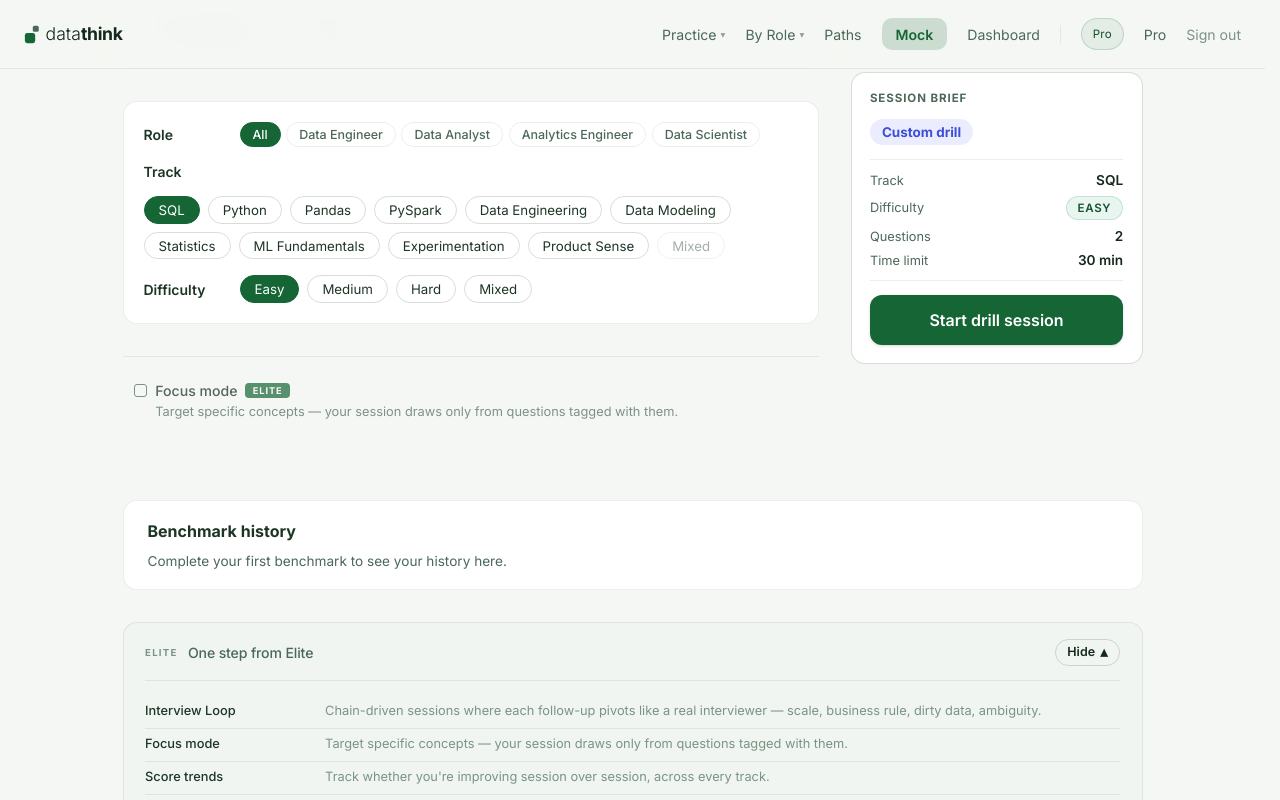
Test case: MockHub gating consistency — focus mode › Focus mode Elite gate: greyed but clickable, reveals the message + upgrade on click (no dead checkbox)
The image size is (1280, 800).
(page scrolled)
Expected: the text "Focus mode is an Elite feature" is not shown
Click the button "Focus mode": (196, 390) [122, 373, 818, 428]
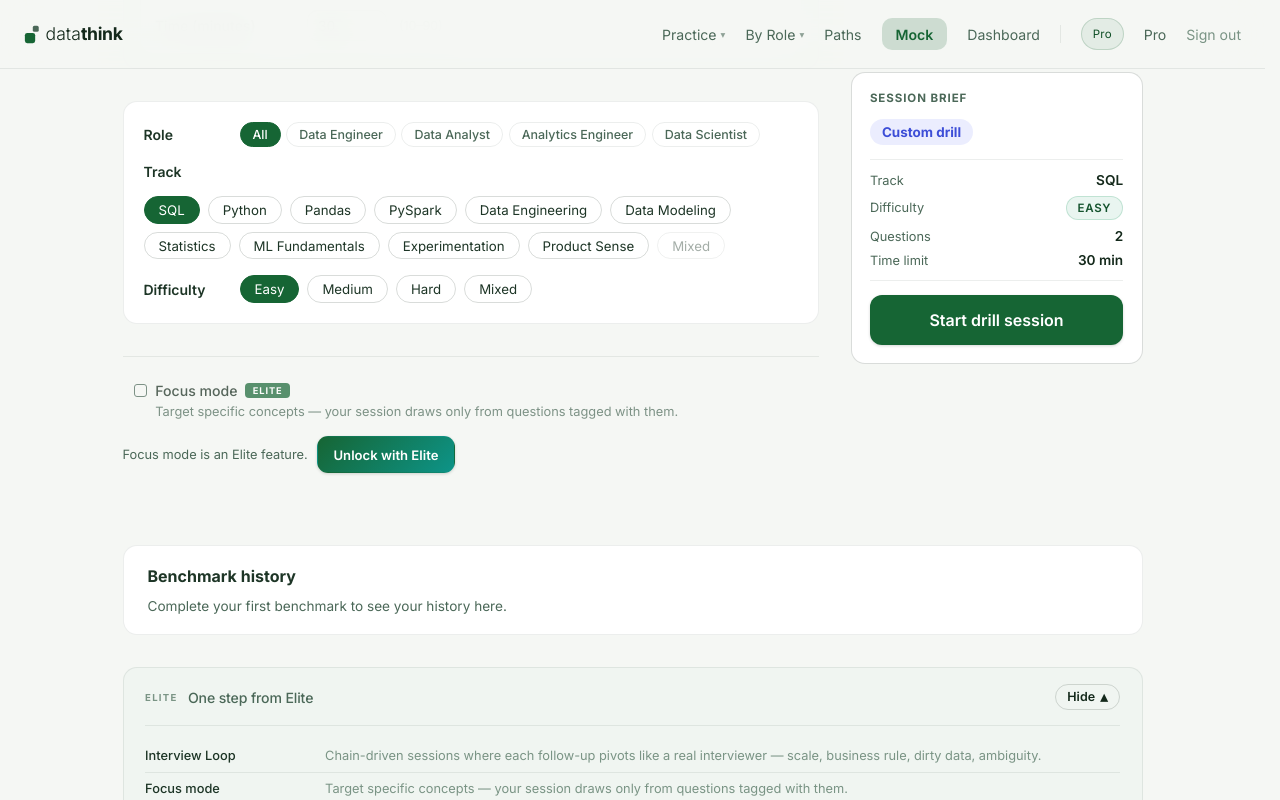
Now the text "Focus mode is an Elite feature. Unlock with Elite" is shown, box [122, 436, 455, 473]
Now the button "Unlock with Elite" is shown, box [317, 436, 455, 473]
